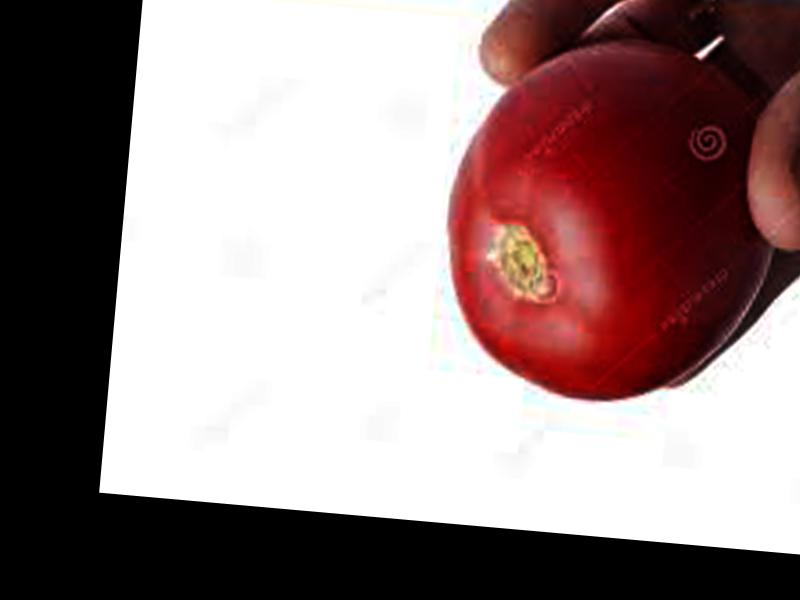Tomato: (435, 26, 791, 414)
